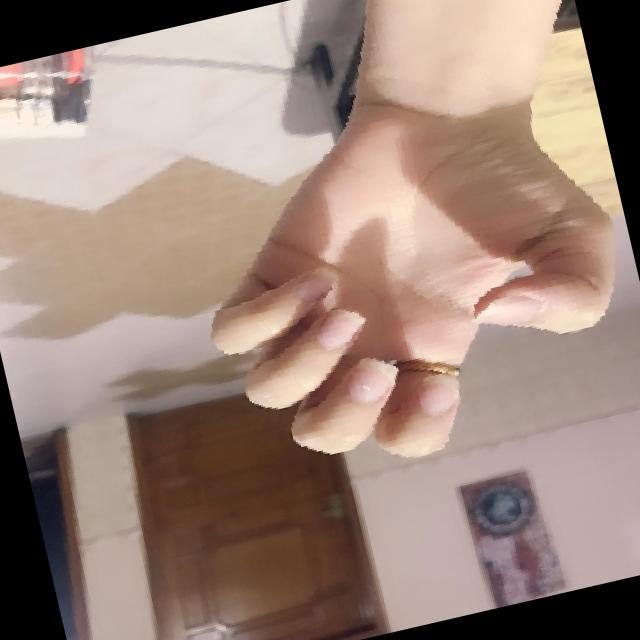Nail: (346, 356, 395, 402), (314, 307, 364, 349), (476, 297, 539, 324), (291, 267, 336, 303), (418, 373, 457, 414)
